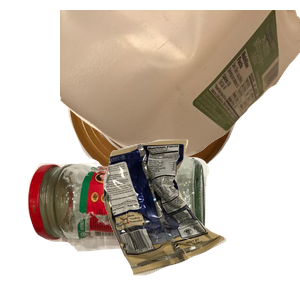glass: (25, 155, 227, 300)
metal: (66, 15, 297, 193)
plastic: (60, 10, 300, 160)
trash: (101, 137, 300, 300)
